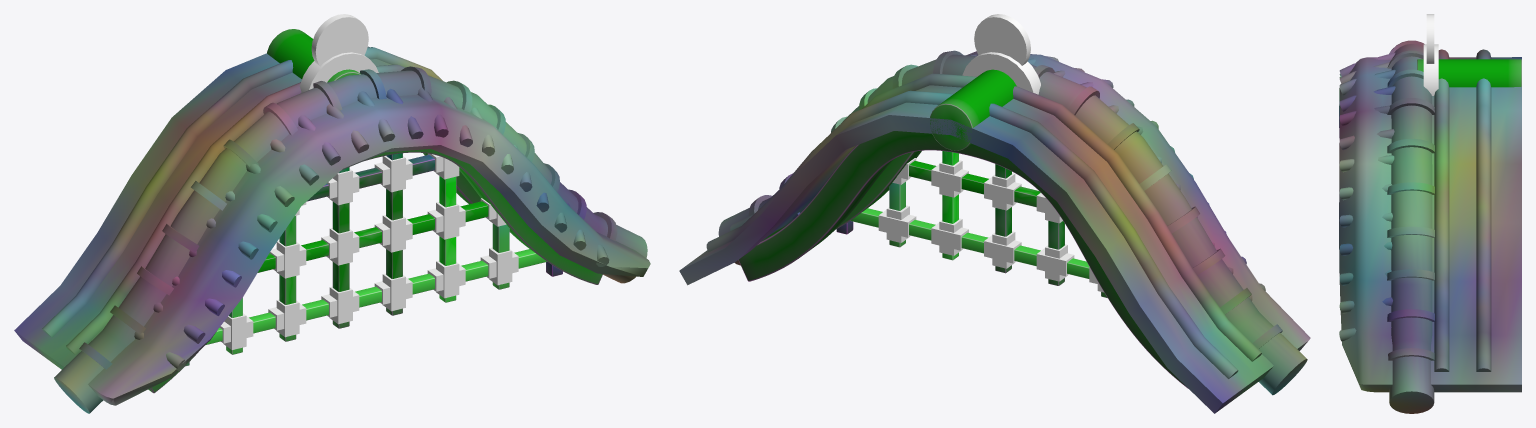
Rendered from roof_arch_3b_200_01.fbx.
3 renders of one model, left to right at view 1: azimuth 30°, elevation 25°; view 2: azimuth 150°, elevation 25°; view 3: azimuth 270°, elevation 25°, orthographic. The views are drawn at different scales.
Visible parts, largest first — view 1: roof_arch_3b_200_01; view 2: roof_arch_3b_200_01; view 3: roof_arch_3b_200_01.
Part boxes in pixels (x1,y1,x2,y2): roof_arch_3b_200_01: (14,14,650,413); roof_arch_3b_200_01: (679,14,1310,413); roof_arch_3b_200_01: (1339,14,1521,413).
Bounding box in the file's own units: 3.95 × 2.09 × 1.22.
